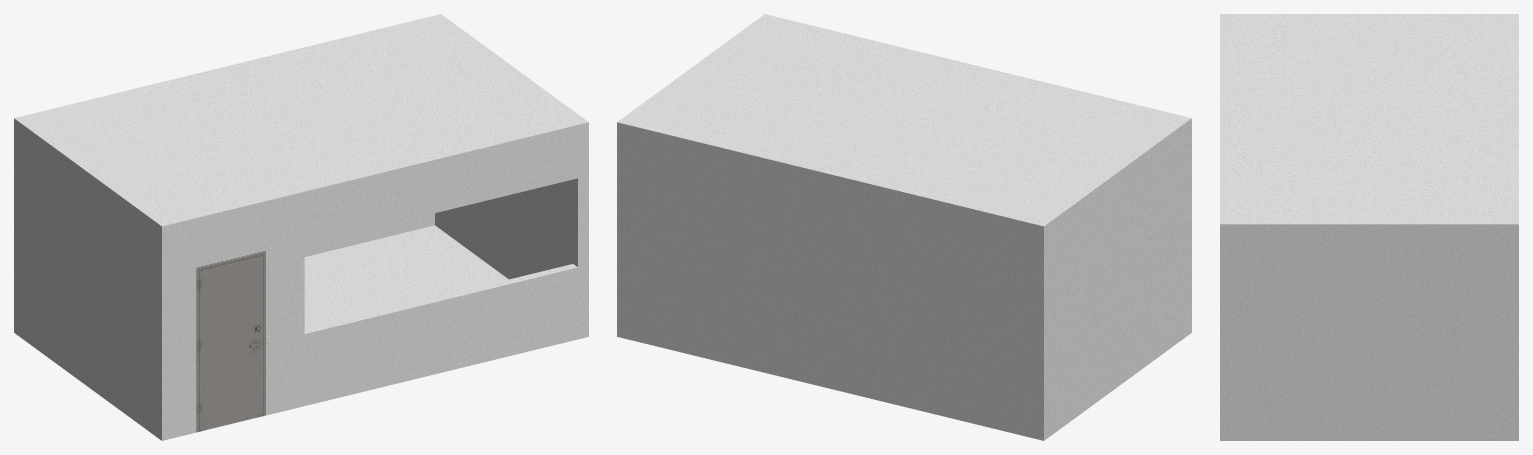
Rendered from medical_store.glb.
3 renders of one model, left to right at view 1: azimuth 30°, elevation 25°; view 2: azimuth 150°, elevation 25°; view 3: azimuth 270°, elevation 25°, orthographic.
Parts seen in each view (by area): view 1: Cube; view 2: Cube; view 3: Cube.
Part boxes in pixels (left/top/right/bottom): Cube: left=14, top=14, right=588, bottom=440; Cube: left=617, top=14, right=1191, bottom=440; Cube: left=1220, top=14, right=1518, bottom=440.
Bounding box in the file's own units: 5 × 2.4 × 3.
Materials: 1 (1 with a texture image).
